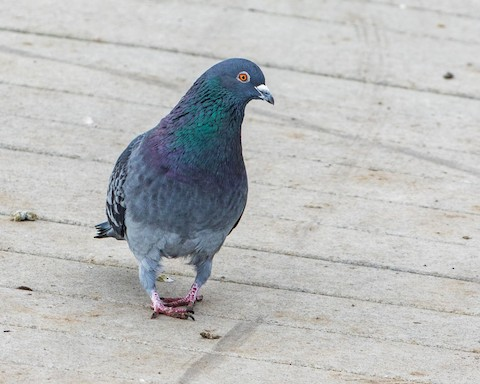pigeon: (83, 56, 282, 329)
